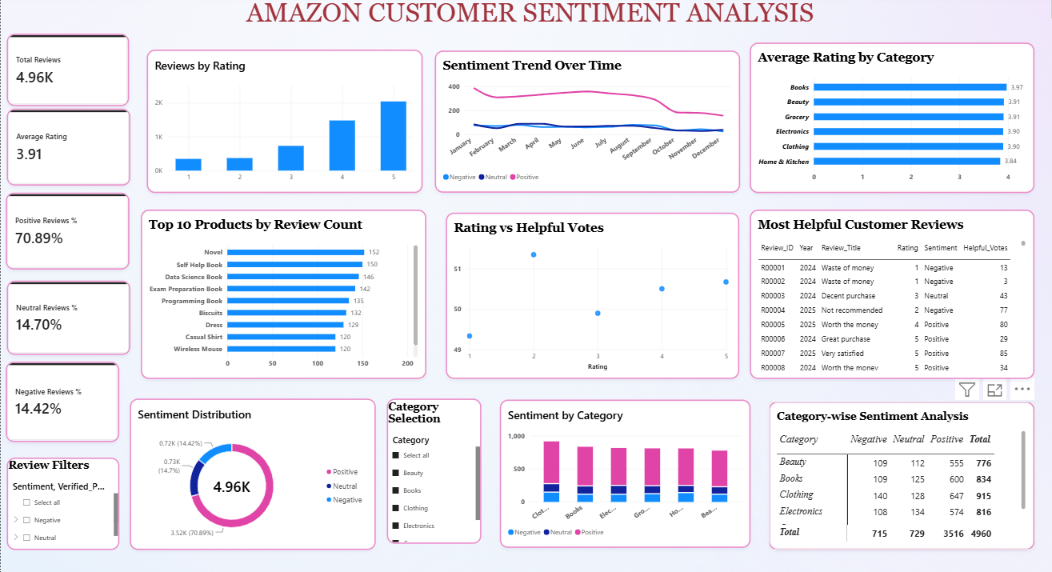

The page's visual inventory and layout, read from the dashboard file:
{"tool":"powerbi","page":{"name":"Page 1","canvas":[1920,1080],"ordinal":0},"visuals":[{"type":"textbox","box":[10.9,0,1909.2,45.2],"z":0},{"type":"cardVisual","title":"TOTAL REVIEWS","fields":{"Data":["CountNonNull(Amazon_Customer_Sentiment_Analysis_5000_CLEANED.Review_ID)"]},"box":[10.9,65.1,222.6,132.1],"z":1000},{"type":"cardVisual","fields":{"Data":["Avg(Amazon_Customer_Sentiment_Analysis_5000_CLEANED.Rating)"]},"box":[10.9,202.7,225,140],"z":2000},{"type":"cardVisual","fields":{"Data":["Amazon_Customer_Sentiment.Positive Reviews %"]},"box":[9,354.7,225,140],"z":3000},{"type":"cardVisual","fields":{"Data":["Amazon_Customer_Sentiment.Neutral Reviews %"]},"box":[10.9,513.9,225,135],"z":4000},{"type":"cardVisual","fields":{"Data":["Amazon_Customer_Sentiment.Negative Reviews %"]},"box":[9,662.3,206.3,146.6],"z":5000},{"type":"donutChart","title":"Sentiment Distribution","fields":{"Category":["Amazon_Customer_Sentiment.Sentiment"],"Y":["CountNonNull(Amazon_Customer_Sentiment.Review_ID)"]},"box":[235.3,729.3,447,275.1],"z":6000},{"type":"clusteredColumnChart","title":"Reviews by Rating","fields":{"Category":["Amazon_Customer_Sentiment.Rating"],"Y":["CountNonNull(Amazon_Customer_Sentiment.Review_ID)"]},"box":[266,94.1,501.3,260.6],"z":7000},{"type":"clusteredBarChart","title":"Average Rating by Category","fields":{"Category":["Amazon_Customer_Sentiment.Category"],"Y":["Avg(Amazon_Customer_Sentiment.Rating)"]},"box":[1362.7,81.4,517.6,273.3],"z":9000},{"type":"lineChart","title":"Sentiment Trend Over Time","fields":{"Category":["Amazon_Customer_Sentiment.Review_Date.Variation.Date Hierarchy.Month","Amazon_Customer_Sentiment.Review_Date.Variation.Date Hierarchy.Day"],"Series":["Amazon_Customer_Sentiment.Sentiment"],"Y":["CountNonNull(Amazon_Customer_Sentiment.Review_ID)"]},"box":[789,95.9,555.6,258.8],"z":9001},{"type":"clusteredBarChart","title":"Top 10 Products by Review Count","fields":{"Category":["Amazon_Customer_Sentiment.Product"],"Y":["CountNonNull(Amazon_Customer_Sentiment.Review_ID)"]},"box":[255.2,385.5,519.4,307.6],"z":9002},{"type":"scatterChart","title":"Rating vs Helpful Votes","fields":{"X":["Amazon_Customer_Sentiment.Rating"],"Y":["Avg(Amazon_Customer_Sentiment.Helpful_Votes)"]},"box":[808.9,390.9,533.8,302.2],"z":9003},{"type":"columnChart","title":"Sentiment by Category","fields":{"Category":["Amazon_Customer_Sentiment.Category"],"Series":["Amazon_Customer_Sentiment.Sentiment"],"Y":["CountNonNull(Amazon_Customer_Sentiment.Review_ID)"]},"box":[906.6,731.1,456,269.6],"z":9004},{"type":"pivotTable","title":"Category-wise Sentiment Analysis","fields":{"Columns":["Amazon_Customer_Sentiment.Sentiment"],"Rows":["Amazon_Customer_Sentiment.Category"],"Values":["CountNonNull(Amazon_Customer_Sentiment.Review_ID)"]},"box":[1397.1,734.7,483.2,269.6],"z":9005},{"type":"slicer","title":"Review Filters","fields":{"Values":["Amazon_Customer_Sentiment.Sentiment","Amazon_Customer_Sentiment.Verified_Purchase"]},"box":[10.9,836.1,204.5,168.3],"z":9007},{"type":"tableEx","title":"Most Helpful Customer Reviews","fields":{"Values":["Amazon_Customer_Sentiment.Review_ID","Amazon_Customer_Sentiment.Review_Date.Variation.Date Hierarchy.Year","Amazon_Customer_Sentiment.Review_Title","Amazon_Customer_Sentiment.Rating","Amazon_Customer_Sentiment.Sentiment","Amazon_Customer_Sentiment.Helpful_Votes"]},"box":[1362.7,385.5,517.6,307.6],"z":9008},{"type":"slicer","title":"Category Selection","fields":{"Values":["Amazon_Customer_Sentiment.Category"]},"box":[702.1,729.3,171.9,264.2],"z":9009}]}

Visuals, with their boxes on the page's 1920x1080 design canvas (x1, y1, x2, y2). These are canvas units, not pixel positions in the 1052x572 screenshot, which may show the page scaled, cropped or inside an application window:
textbox: detection(11, 0, 1920, 45)
"TOTAL REVIEWS" cardVisual: detection(11, 65, 234, 197)
cardVisual - Avg(Amazon_Customer_Sentiment_Analysis_5000_CLEANED.Rating): detection(11, 203, 236, 343)
cardVisual - Amazon_Customer_Sentiment.Positive Reviews %: detection(9, 355, 234, 495)
cardVisual - Amazon_Customer_Sentiment.Neutral Reviews %: detection(11, 514, 236, 649)
cardVisual - Amazon_Customer_Sentiment.Negative Reviews %: detection(9, 662, 215, 809)
"Sentiment Distribution" donutChart: detection(235, 729, 682, 1004)
"Reviews by Rating" clusteredColumnChart: detection(266, 94, 767, 355)
"Average Rating by Category" clusteredBarChart: detection(1363, 81, 1880, 355)
"Sentiment Trend Over Time" lineChart: detection(789, 96, 1345, 355)
"Top 10 Products by Review Count" clusteredBarChart: detection(255, 386, 775, 693)
"Rating vs Helpful Votes" scatterChart: detection(809, 391, 1343, 693)
"Sentiment by Category" columnChart: detection(907, 731, 1363, 1001)
"Category-wise Sentiment Analysis" pivotTable: detection(1397, 735, 1880, 1004)
"Review Filters" slicer: detection(11, 836, 215, 1004)
"Most Helpful Customer Reviews" tableEx: detection(1363, 386, 1880, 693)
"Category Selection" slicer: detection(702, 729, 874, 994)
